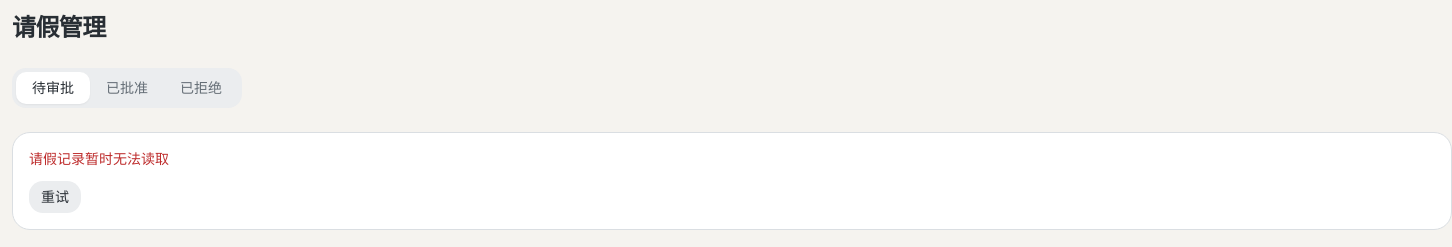
Scenario: LeaveListPage › shows a failed request distinctly from an empty list and retries the current filter
Expected: the message reads "请假记录暂时无法读取", 29,150 -> 169,167
What coordinates should you click on to do the following:
click the button "重试"
I would click on:
 (55, 197)
Its box is 29,181 -> 81,213.
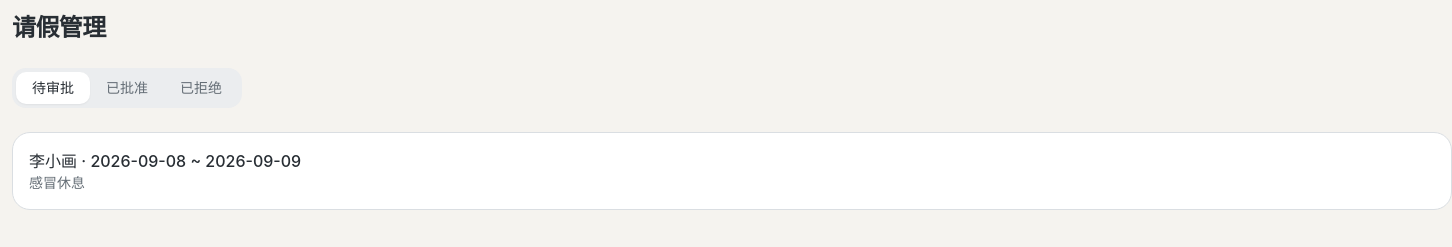
Expected: the text "感冒休息" is shown, 29,174 -> 85,191
Expected: the message "请假记录暂时无法读取" is gone
